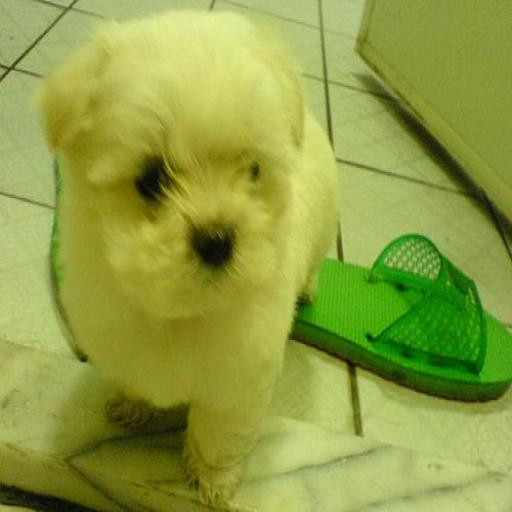dog_face: (43, 19, 311, 322)
